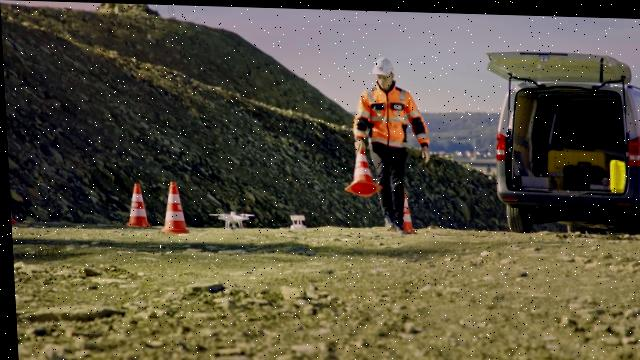drone: (205, 209, 253, 229)
